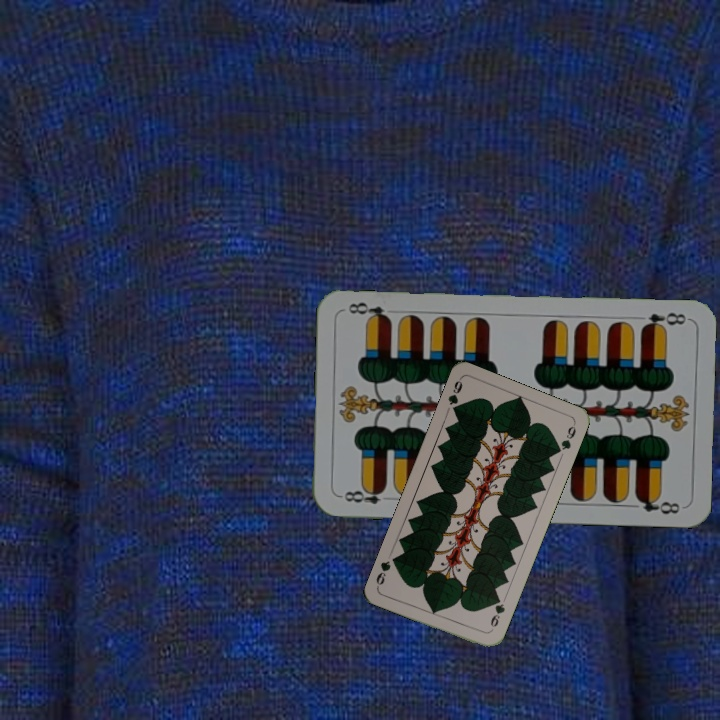E8: (637, 308, 688, 333), (336, 483, 388, 507)
G9: (486, 593, 508, 634), (444, 375, 465, 417)
